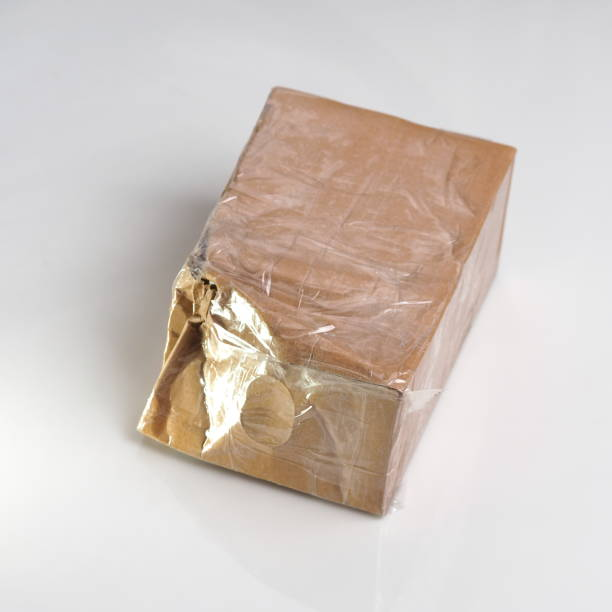damaged package: (164, 244, 327, 459)
